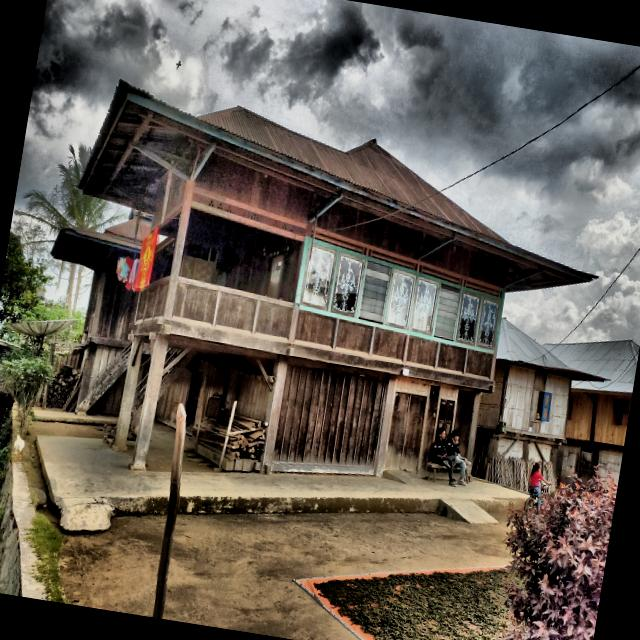column: (132, 332, 170, 466), (114, 334, 145, 446), (259, 354, 288, 472), (374, 374, 396, 476), (76, 340, 98, 409), (467, 389, 482, 476)
door: (385, 392, 427, 470), (185, 371, 203, 430), (262, 252, 284, 299)
ornamen: (171, 282, 219, 328), (215, 291, 258, 335), (294, 309, 337, 350), (254, 300, 294, 342), (335, 319, 373, 357), (371, 327, 407, 364), (405, 335, 439, 370), (436, 342, 467, 376), (465, 349, 494, 381), (153, 279, 169, 320), (143, 284, 158, 322), (135, 288, 148, 323)
roof: (80, 81, 595, 291), (50, 208, 153, 271), (497, 318, 601, 379), (545, 341, 640, 394)
stair: (129, 347, 198, 432), (74, 340, 133, 414)
wall: (294, 202, 422, 364), (271, 356, 390, 475), (405, 243, 506, 381), (154, 350, 274, 437), (191, 152, 312, 235), (420, 381, 477, 471), (503, 364, 570, 438), (83, 259, 139, 342), (565, 391, 632, 446), (477, 360, 506, 429)
window: (358, 261, 391, 324), (385, 268, 416, 331), (303, 247, 335, 307), (333, 256, 363, 314), (410, 276, 439, 336), (434, 283, 461, 341), (455, 290, 482, 346), (476, 296, 501, 350), (435, 398, 455, 442), (530, 389, 552, 422), (615, 399, 630, 427)
